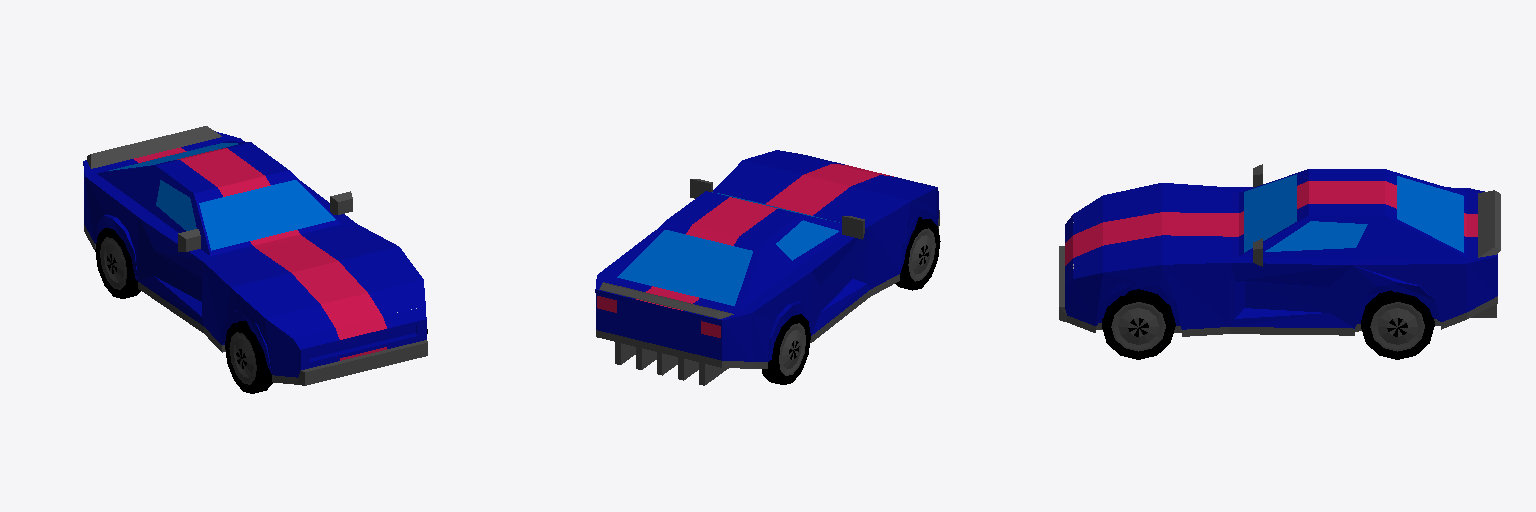
The model's file is Vehicle_02.obj.
3 views of the same model, side by side, from view 1: azimuth 30°, elevation 25°; view 2: azimuth 150°, elevation 25°; view 3: azimuth 270°, elevation 25° (orthographic).
Visible parts, largest first — view 1: SR_Veh_MuscleSports_Black; view 2: SR_Veh_MuscleSports_Black; view 3: SR_Veh_MuscleSports_Black.
Part boxes in pixels (x1,y1,x2,y2): SR_Veh_MuscleSports_Black: (83,126,427,393); SR_Veh_MuscleSports_Black: (595,150,940,385); SR_Veh_MuscleSports_Black: (1059,164,1500,359).
Bounding box in the file's own units: 0.2634 × 0.1852 × 0.583.